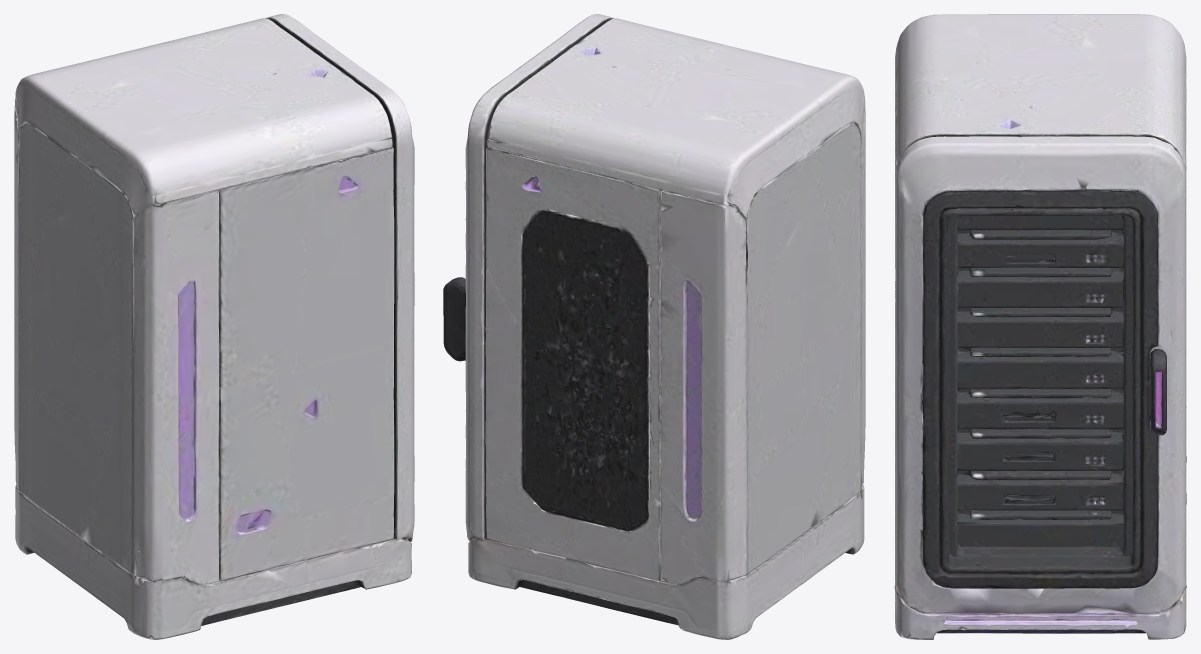
Rendered from data-vault.glb.
The picture shows the model from 3 angles, left to right: view 1: azimuth 30°, elevation 25°; view 2: azimuth 150°, elevation 25°; view 3: azimuth 270°, elevation 25°; orthographic projection. The views are drawn at different scales.
Parts seen in each view (by area): view 1: tripo_node_5627097a-295e-4caa-b761-47939e2aca15; view 2: tripo_node_5627097a-295e-4caa-b761-47939e2aca15; view 3: tripo_node_5627097a-295e-4caa-b761-47939e2aca15.
Boxes of the visible parts, bbox=[...] form: tripo_node_5627097a-295e-4caa-b761-47939e2aca15: bbox=[14, 14, 414, 639]; tripo_node_5627097a-295e-4caa-b761-47939e2aca15: bbox=[443, 14, 865, 639]; tripo_node_5627097a-295e-4caa-b761-47939e2aca15: bbox=[894, 14, 1186, 639].
Size of the model in its own units: 0.6504 by 0.9781 by 0.5253.
1 material, 1 textured.
